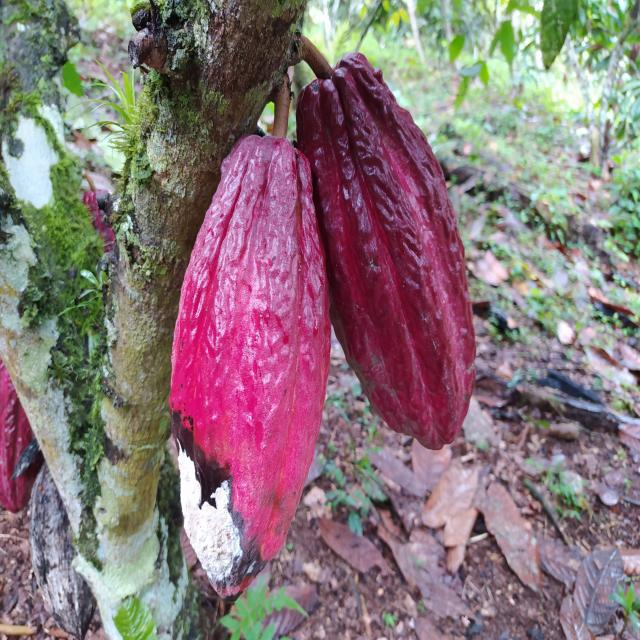Monilia: (168, 115, 332, 600)
Sana: (296, 49, 476, 453)
